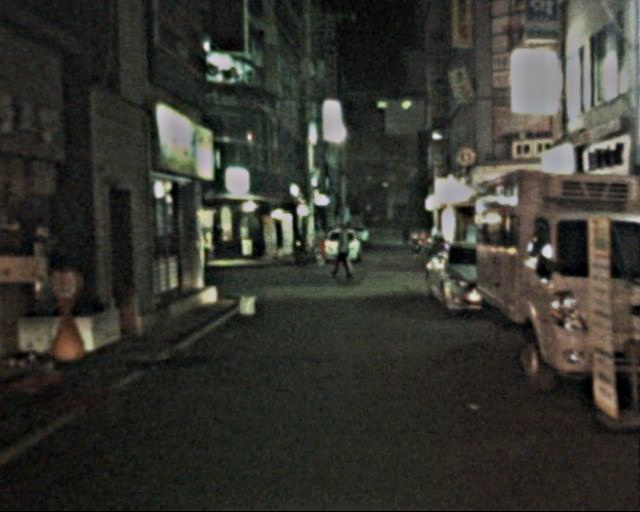person: (328, 224, 358, 288)
